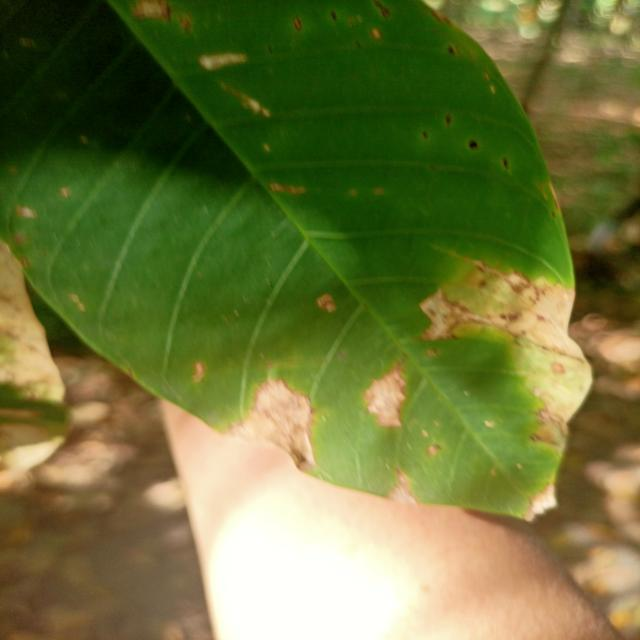Colletotrichum: (468, 140, 478, 150), (422, 131, 428, 139), (448, 46, 454, 54), (503, 158, 508, 167), (446, 116, 450, 124)
Leaf-Blight: (422, 262, 591, 443), (224, 378, 317, 469), (364, 371, 405, 428), (527, 481, 557, 520)
